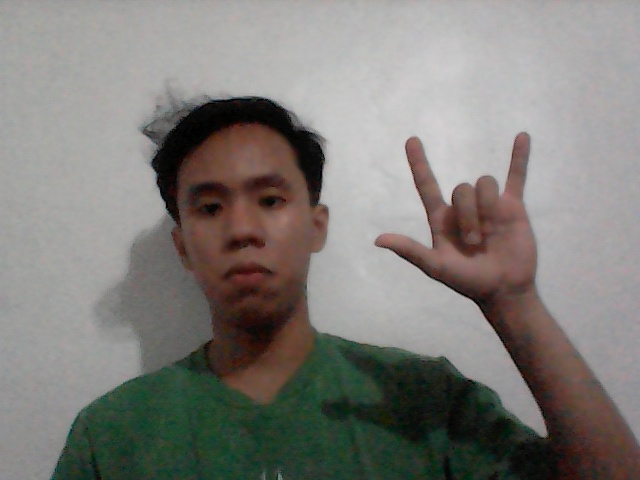I Love You: (351, 115, 577, 322)
